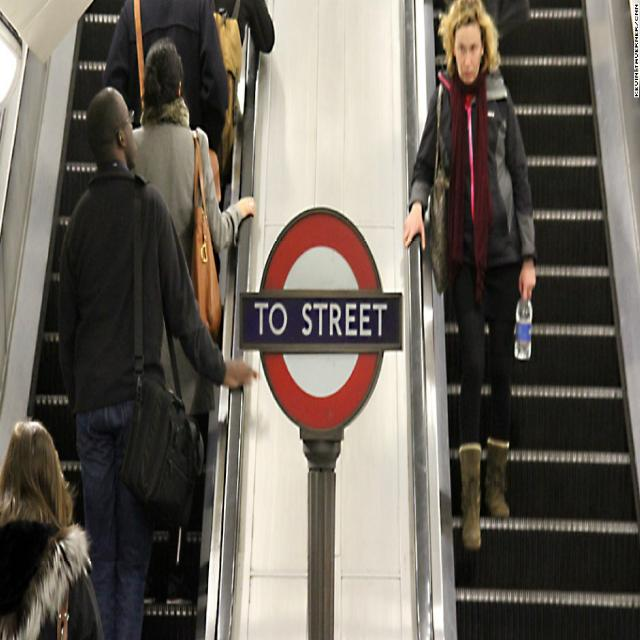body: (56, 76, 264, 639), (399, 0, 538, 559), (129, 32, 257, 608), (0, 417, 105, 640), (99, 0, 231, 154), (209, 0, 277, 214)
